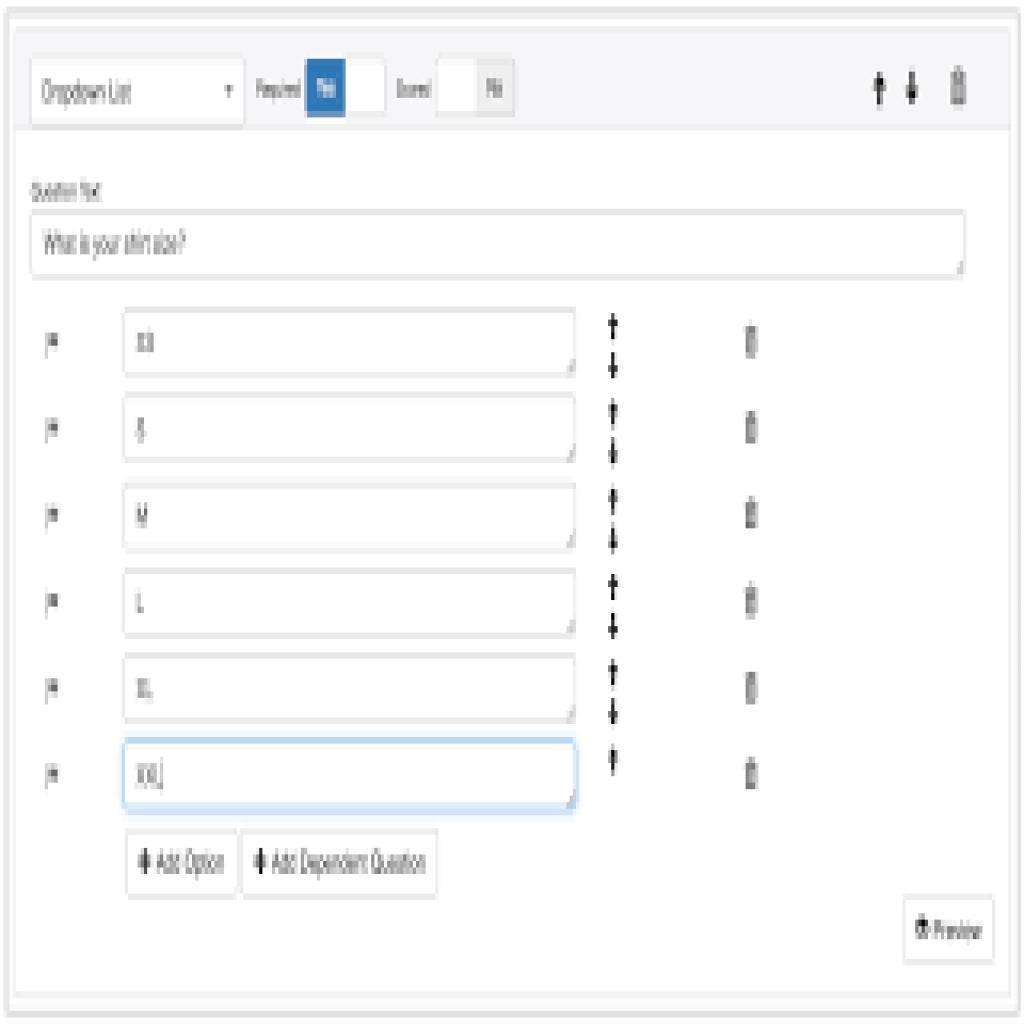button: (242, 830, 439, 898), (126, 830, 241, 897), (904, 896, 995, 965)
dropdown: (33, 56, 247, 128)
icon: (861, 61, 898, 115), (946, 61, 975, 112), (902, 62, 928, 115)
input: (28, 209, 966, 276), (121, 737, 581, 816), (120, 305, 578, 379), (123, 483, 576, 555), (122, 654, 578, 725), (123, 392, 578, 463), (121, 569, 580, 638)
